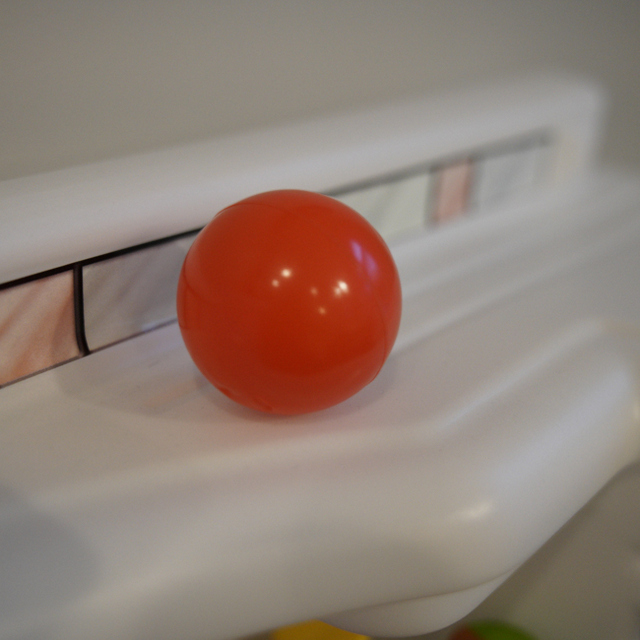Ball: (178, 192, 402, 416)
